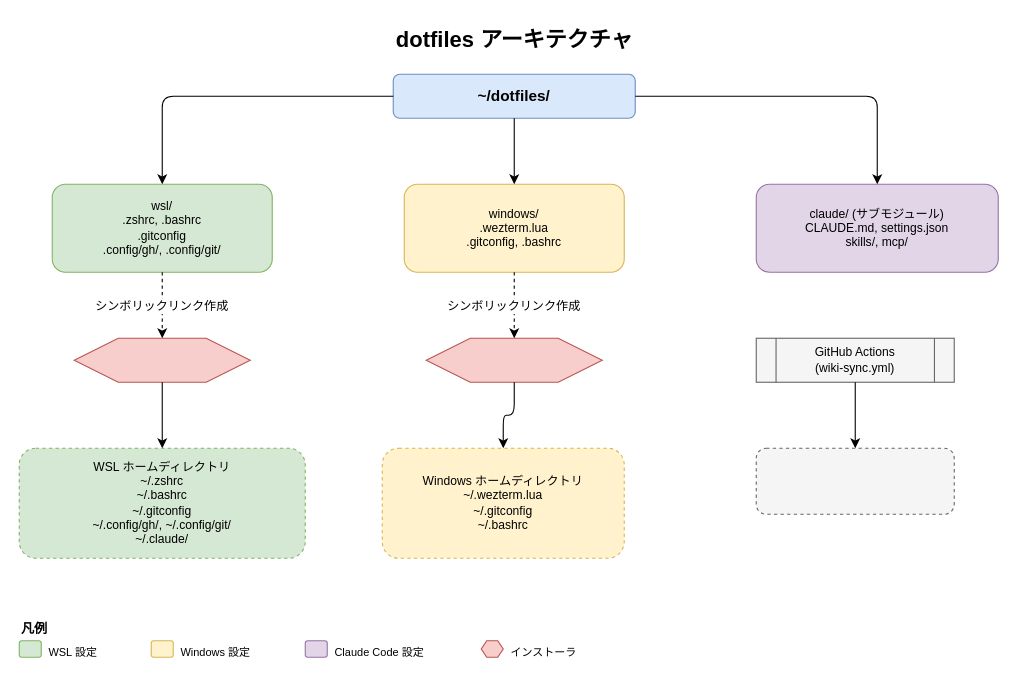
This 1018x679 diagram has some shape labels left out. Each missing label, with the centre of its shape:
"docs/wiki/ → GitHub Wiki に自動同期" belongs at point (854, 480).
"install-windows.ps1" belongs at point (513, 359).
"install.sh" belongs at point (161, 359).
